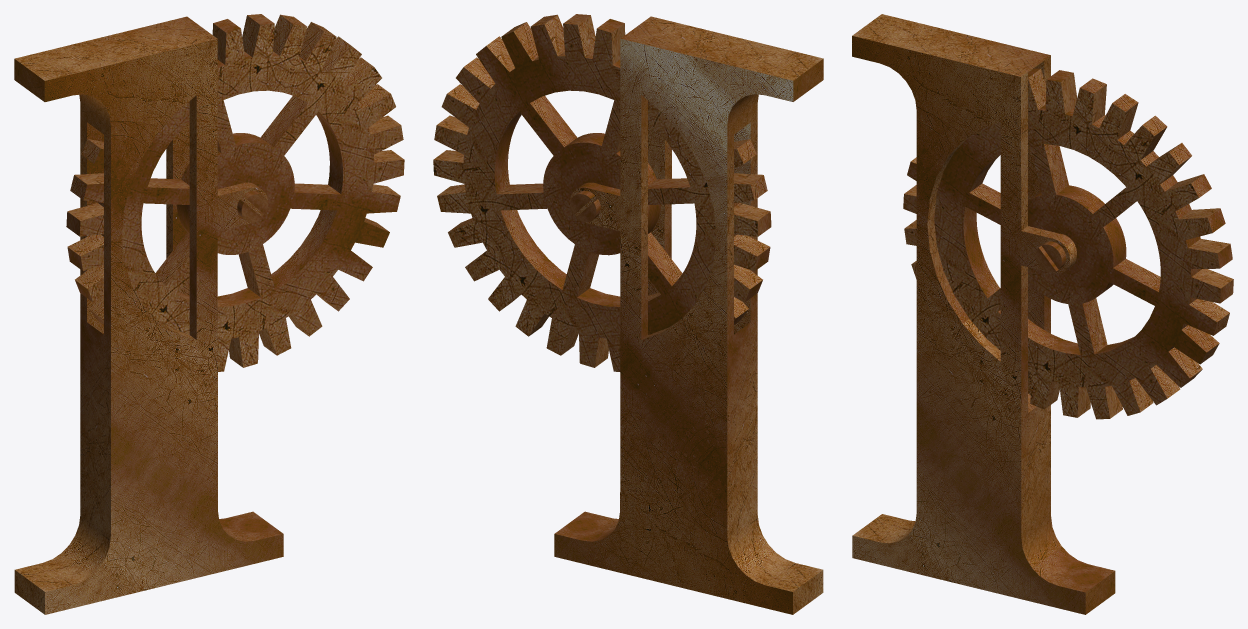
3 renders of one model, left to right at view 1: azimuth 30°, elevation 25°; view 2: azimuth 150°, elevation 25°; view 3: azimuth 330°, elevation 25°, orthographic. The views are drawn at different scales.
Parts seen in each view (by area): view 1: P, Cogwheel_262, Screw_836; view 2: P, Cogwheel_262, Screw_836; view 3: P, Cogwheel_262, Screw_836.
Boxes of the visible parts, x1=… form: P: x1=14, y1=16, x2=283, y2=614; Cogwheel_262: x1=66, y1=14, x2=404, y2=371; Screw_836: x1=237, y1=191, x2=267, y2=222; P: x1=554, y1=16, x2=823, y2=614; Cogwheel_262: x1=433, y1=14, x2=771, y2=371; Screw_836: x1=570, y1=190, x2=600, y2=222; P: x1=852, y1=14, x2=1115, y2=614; Cogwheel_262: x1=903, y1=68, x2=1233, y2=419; Screw_836: x1=1036, y1=234, x2=1066, y2=272.
Size of the model in its own units: 69.91 by 96.82 by 12.89.
Materials: 1 (1 with a texture image).
